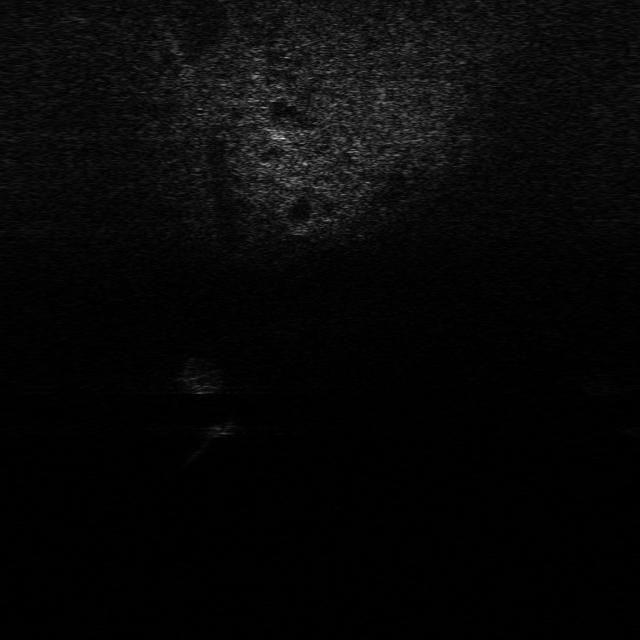circle cage: (170, 352, 240, 399)
cylinder: (189, 415, 237, 459)
